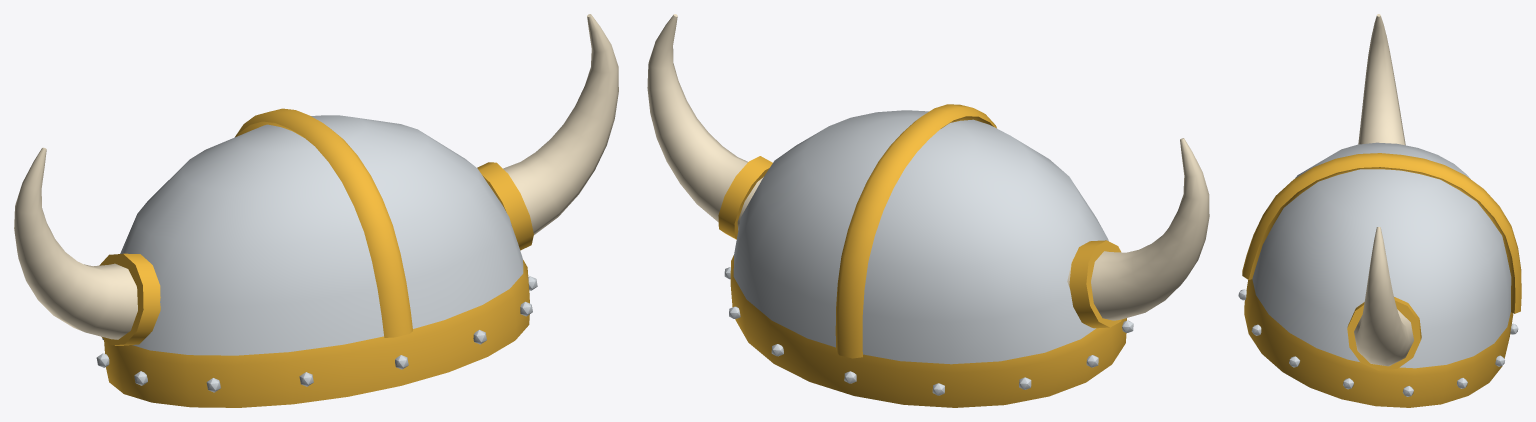
Rendered from CascoVikingo.fbx.
3 views of the same model, side by side, from view 1: azimuth 30°, elevation 25°; view 2: azimuth 150°, elevation 25°; view 3: azimuth 270°, elevation 25° (orthographic). The views are drawn at different scales.
Visible parts, largest first — view 1: CascoVikingo; view 2: CascoVikingo; view 3: CascoVikingo.
Part boxes in pixels (x1,y1,x2,y2): CascoVikingo: [14, 14, 618, 407]; CascoVikingo: [647, 14, 1209, 407]; CascoVikingo: [1238, 14, 1521, 407].
Bounding box in the file's own units: 1.83 × 0.83 × 0.94.
Materials: 1 (1 with a texture image).
